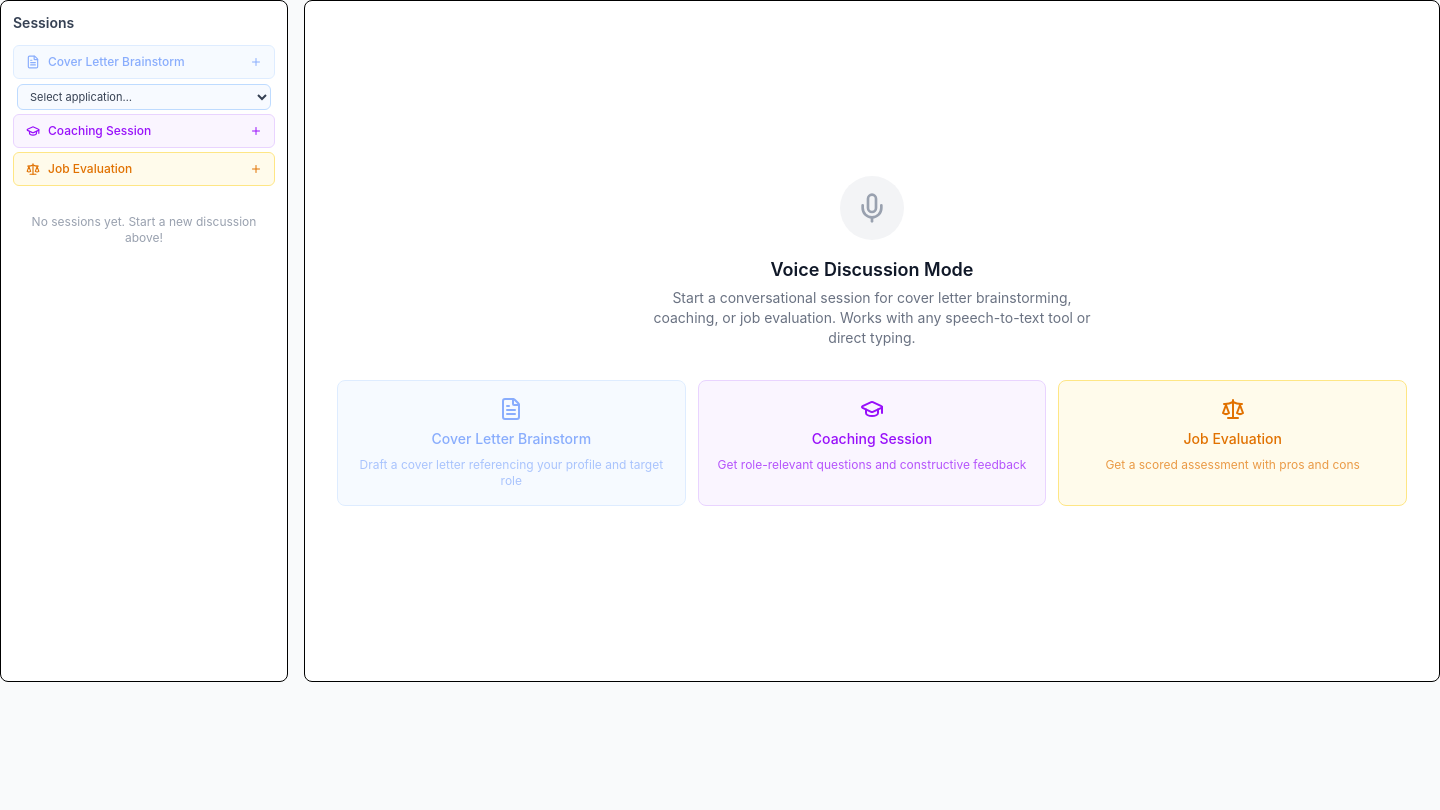
Scenario: VoiceDiscussion › session with messages › renders text input area
Click the text "Coaching Session" below "Voice Discussion Mode" at (872, 439), box [812, 429, 932, 449]
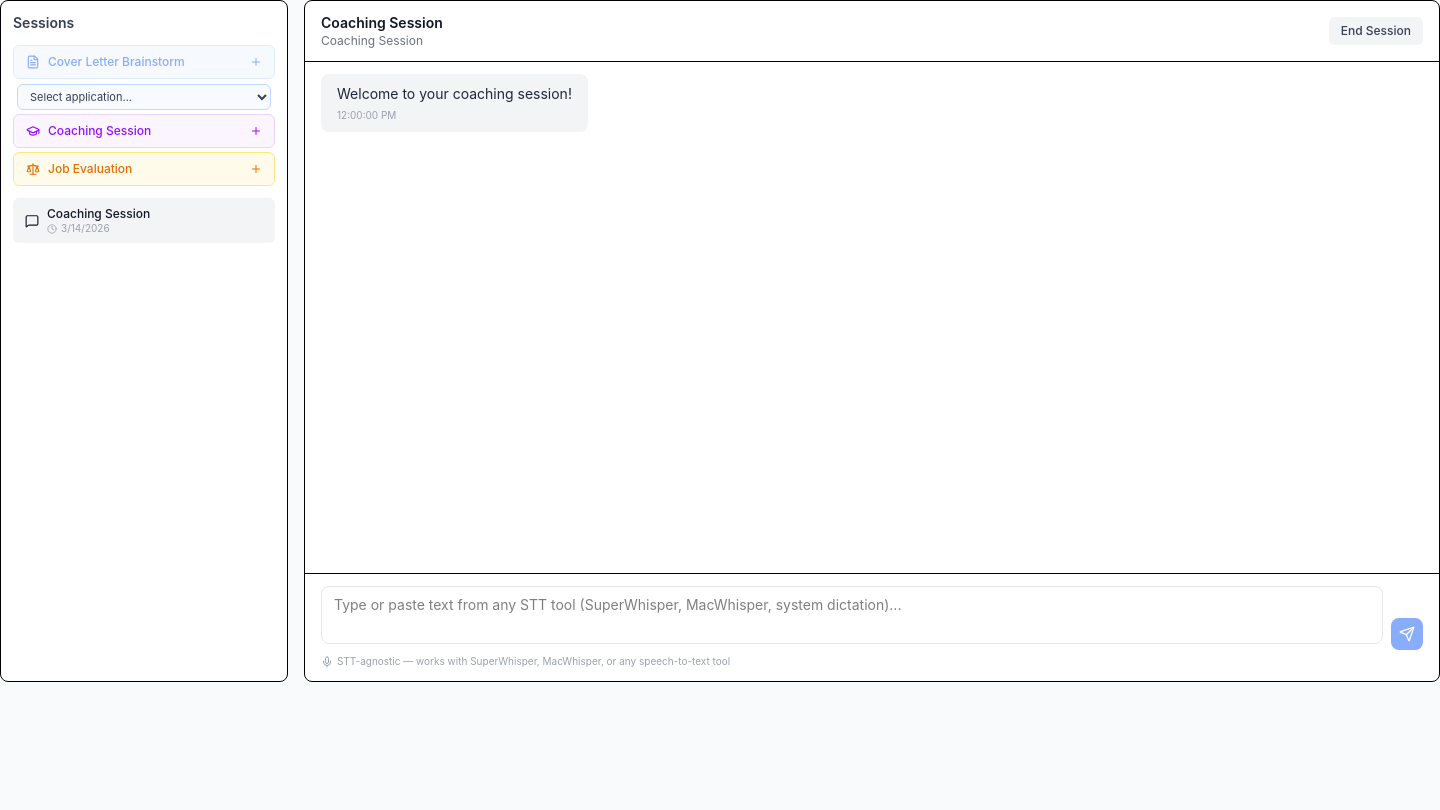
Check: the text box with placeholder "Type or paste text" is shown, box [321, 586, 1383, 644]
